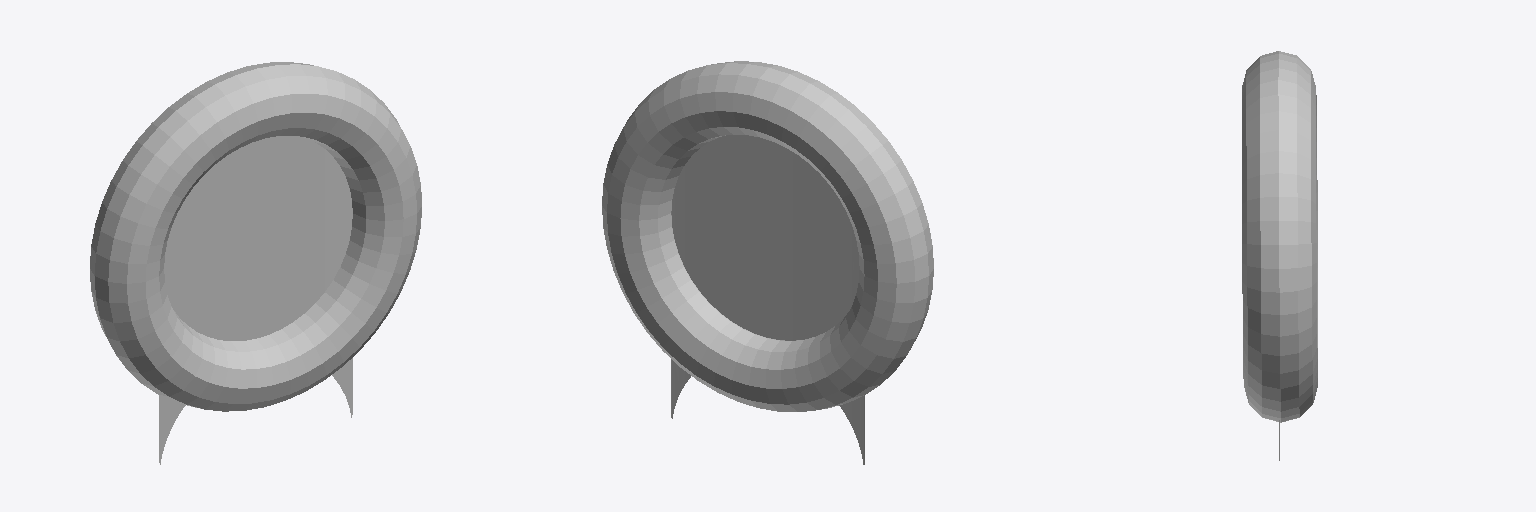
The model's file is powerup.obj.
3 renders of one model, left to right at view 1: azimuth 30°, elevation 25°; view 2: azimuth 150°, elevation 25°; view 3: azimuth 270°, elevation 25°, orthographic.
Visible parts, largest first — view 1: test_1; view 2: test_1; view 3: test_1.
Boxes of the visible parts, x1=… form: test_1: x1=90, y1=62, x2=421, y2=464; test_1: x1=602, y1=61, x2=933, y2=464; test_1: x1=1242, y1=51, x2=1317, y2=460.
Size of the model in its own units: 2.5 by 2.78 by 0.5162.